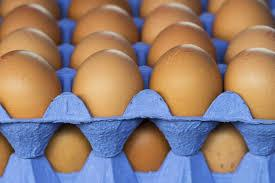egg: (67, 48, 147, 120), (151, 44, 222, 116), (0, 48, 57, 119), (223, 47, 275, 122), (217, 1, 272, 40), (72, 26, 142, 56), (0, 25, 60, 59), (148, 20, 217, 49)
